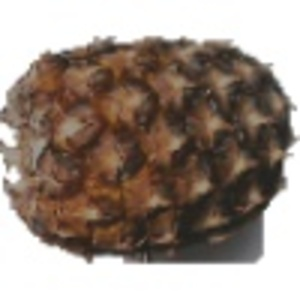abacaxi: (4, 27, 292, 255)
